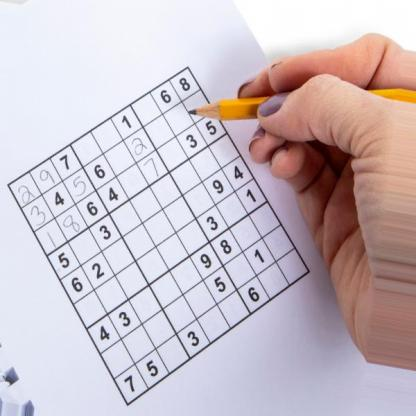sudoku: (5, 62, 315, 411)
